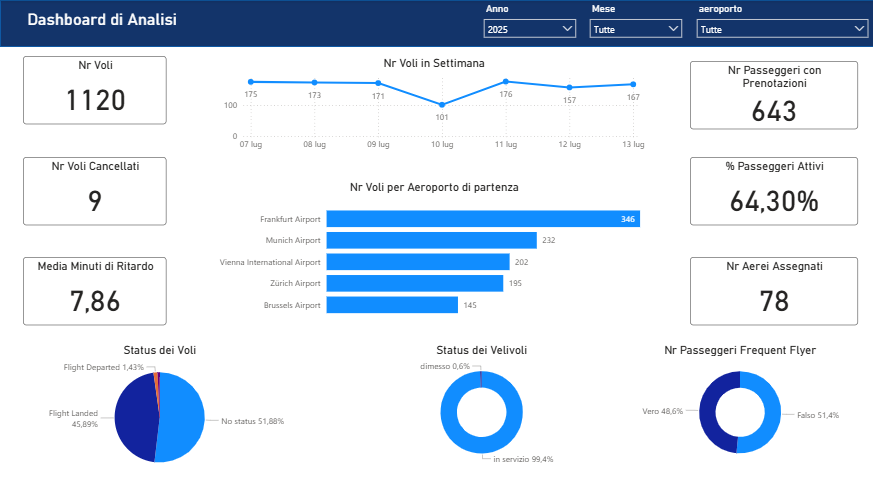

The dashboard page shown, as its layout file describes it:
{"tool":"powerbi","page":{"name":"Overview","canvas":[1280,720],"ordinal":0},"visuals":[{"type":"shape","box":[0,0,1280.5,68.8],"z":0},{"type":"slicer","fields":{"Values":["Calendario.Anno"]},"box":[698.3,0,155.1,89.3],"z":1},{"type":"slicer","fields":{"Values":["Calendario.Mese"]},"box":[853.5,0,155.1,89.3],"z":2},{"type":"slicer","fields":{"Values":["Aeroporti.aeroporto_nome"]},"box":[1009.3,0,270.7,89.7],"z":3},{"type":"card","title":"Nr Voli","fields":{"Values":["Misure.NrVoli"]},"box":[33.8,82.4,210.4,100],"z":4},{"type":"donutChart","title":"Nr Passeggeri Frequent Flyer","fields":{"Y":["Misure.NrPasseggeriRegistrati"],"Category":["Passeggero.passeggero_FrequentFlyer"]},"box":[912.2,501.7,342.8,183.9],"z":6},{"type":"donutChart","title":"Status dei Velivoli","fields":{"Y":["Misure.NrVelivoli"],"Category":["Aereo.aereo_status"]},"box":[520.8,501.7,367.8,183.9],"z":7},{"type":"card","title":"Nr Voli Cancellati","fields":{"Values":["Misure.NrVoli"]},"box":[33.8,229.5,210,100],"z":8},{"type":"card","title":"Media Minuti di Ritardo","fields":{"Values":["Misure.MediaMinRitardoPerVolo"]},"box":[33.8,376.6,210.4,100],"z":9},{"type":"card","title":"Nr Passeggeri con Prenotazioni","fields":{"Values":["Misure.NrPasseggeriMovimentati"]},"box":[1009.3,89.7,245.7,100],"z":10},{"type":"card","title":"% Passeggeri Attivi","fields":{"Values":["Misure.%PasseggeriAttivi"]},"box":[1009.3,229.5,245.7,100],"z":11},{"type":"lineChart","title":"Nr Voli in Settimana","fields":{"Y":["Misure.NrVoli"],"Category":["Calendario.Date"]},"box":[322.2,82.4,626.8,147.1],"z":12},{"type":"pieChart","title":"Status dei Voli","fields":{"Y":["Misure.NrVoli"],"Category":["Voli.volo_status"]},"box":[33.8,501.7,400.2,198.6],"z":13},{"type":"textbox","box":[35.3,10.3,286.9,69.1],"z":14},{"type":"card","title":"Nr Aerei Assegnati","fields":{"Values":["Misure.NrVoliAssegnati"]},"box":[1009.3,376.6,245.7,100],"z":15},{"type":"clusteredBarChart","title":"Nr Voli per Aeroporto di partenza","fields":{"Y":["Misure.NrVoli"],"Category":["Aeroporti.aeroporto_nome"]},"box":[303.1,263.4,665,213.3],"z":16}]}

Visuals, with their boxes in screenshot pixels (x1, y1, x2, y2), scaled from the page's 1280x720 canvas onto the 873x480 screenshot:
shape: BBox(0, 0, 872, 46)
slicer - Calendario.Anno: BBox(476, 0, 582, 60)
slicer - Calendario.Mese: BBox(582, 0, 688, 60)
slicer - Aeroporti.aeroporto_nome: BBox(688, 0, 872, 60)
"Nr Voli" card: BBox(23, 55, 167, 122)
"Nr Passeggeri Frequent Flyer" donutChart: BBox(622, 334, 856, 457)
"Status dei Velivoli" donutChart: BBox(355, 334, 606, 457)
"Nr Voli Cancellati" card: BBox(23, 153, 166, 220)
"Media Minuti di Ritardo" card: BBox(23, 251, 167, 318)
"Nr Passeggeri con Prenotazioni" card: BBox(688, 60, 856, 126)
"% Passeggeri Attivi" card: BBox(688, 153, 856, 220)
"Nr Voli in Settimana" lineChart: BBox(220, 55, 647, 153)
"Status dei Voli" pieChart: BBox(23, 334, 296, 467)
textbox: BBox(24, 7, 220, 53)
"Nr Aerei Assegnati" card: BBox(688, 251, 856, 318)
"Nr Voli per Aeroporto di partenza" clusteredBarChart: BBox(207, 176, 660, 318)
